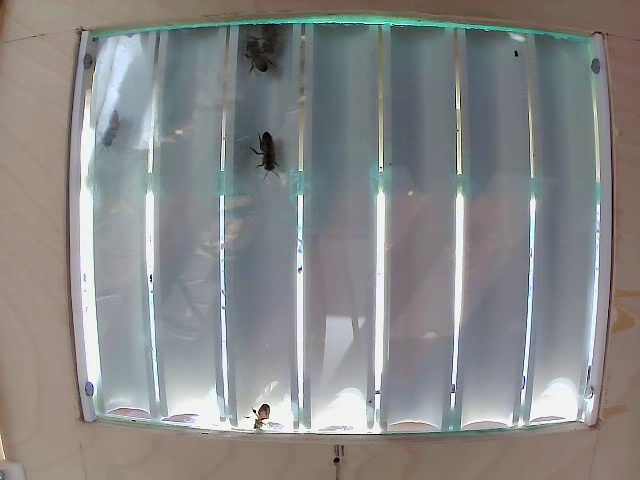bee: (242, 125, 294, 175), (97, 112, 138, 153), (239, 48, 278, 88)
